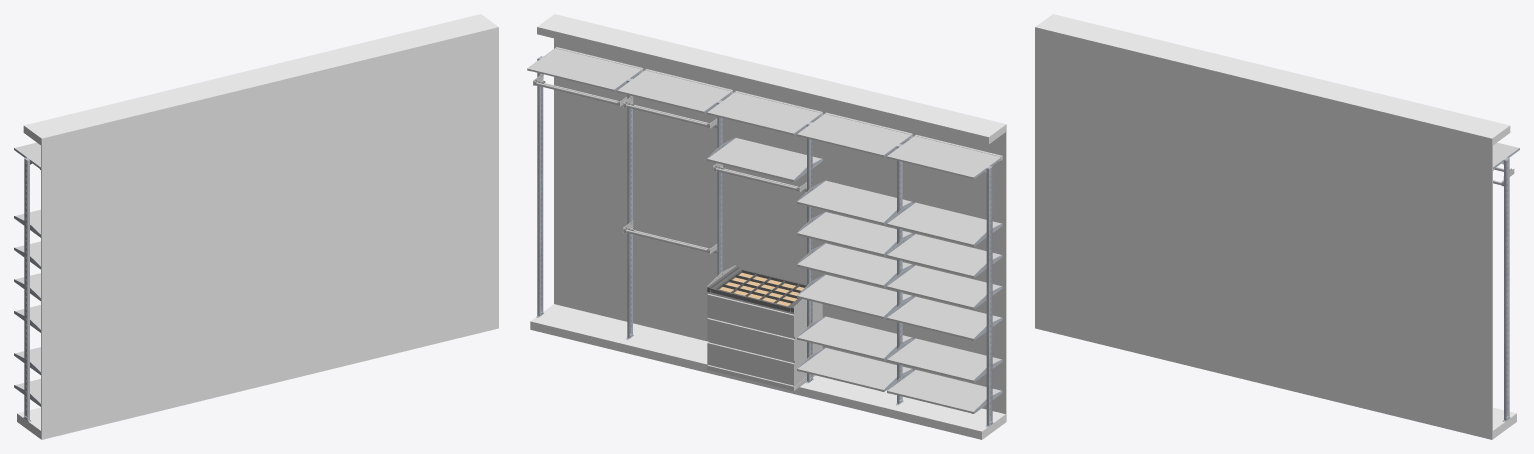
3 views of the same model, side by side, from view 1: azimuth 30°, elevation 25°; view 2: azimuth 150°, elevation 25°; view 3: azimuth 330°, elevation 25° (orthographic).
Visible parts, largest first — view 1: Geom3D_, Geom3D_组件#2; view 2: Geom3D_, Geom3D_组件#15_木层板（中间） copy 001 (×13), Geom3D_组件#16 (×5), Geom3D_组件#4_柜子 copy 002, Geom3D_组件#2 (×6), Geom3D (×2), Geom3D_组件#11_双衣杆 copy 002 (×4); view 3: Geom3D_, Geom3D_组件#2.
Part boxes in pixels (x1,y1,x2,y2): Geom3D_: [17, 14, 498, 439]; Geom3D_组件#2: [23, 157, 30, 421]; Geom3D_: [530, 14, 1006, 439]; Geom3D_组件#15_木层板（中间） copy 001 (×13): [707, 138, 1001, 413]; Geom3D_组件#16 (×5): [527, 47, 1002, 178]; Geom3D_组件#4_柜子 copy 002: [707, 292, 822, 390]; Geom3D_组件#2 (×6): [536, 56, 993, 427]; Geom3D (×2): [707, 266, 806, 312]; Geom3D_组件#11_双衣杆 copy 002 (×4): [533, 74, 806, 253]; Geom3D_: [1035, 14, 1516, 439]; Geom3D_组件#2: [1503, 157, 1510, 421].
Size of the model in its own units: 4.53 by 2.85 by 0.5216.
Materials: 4 (1 with a texture image).
